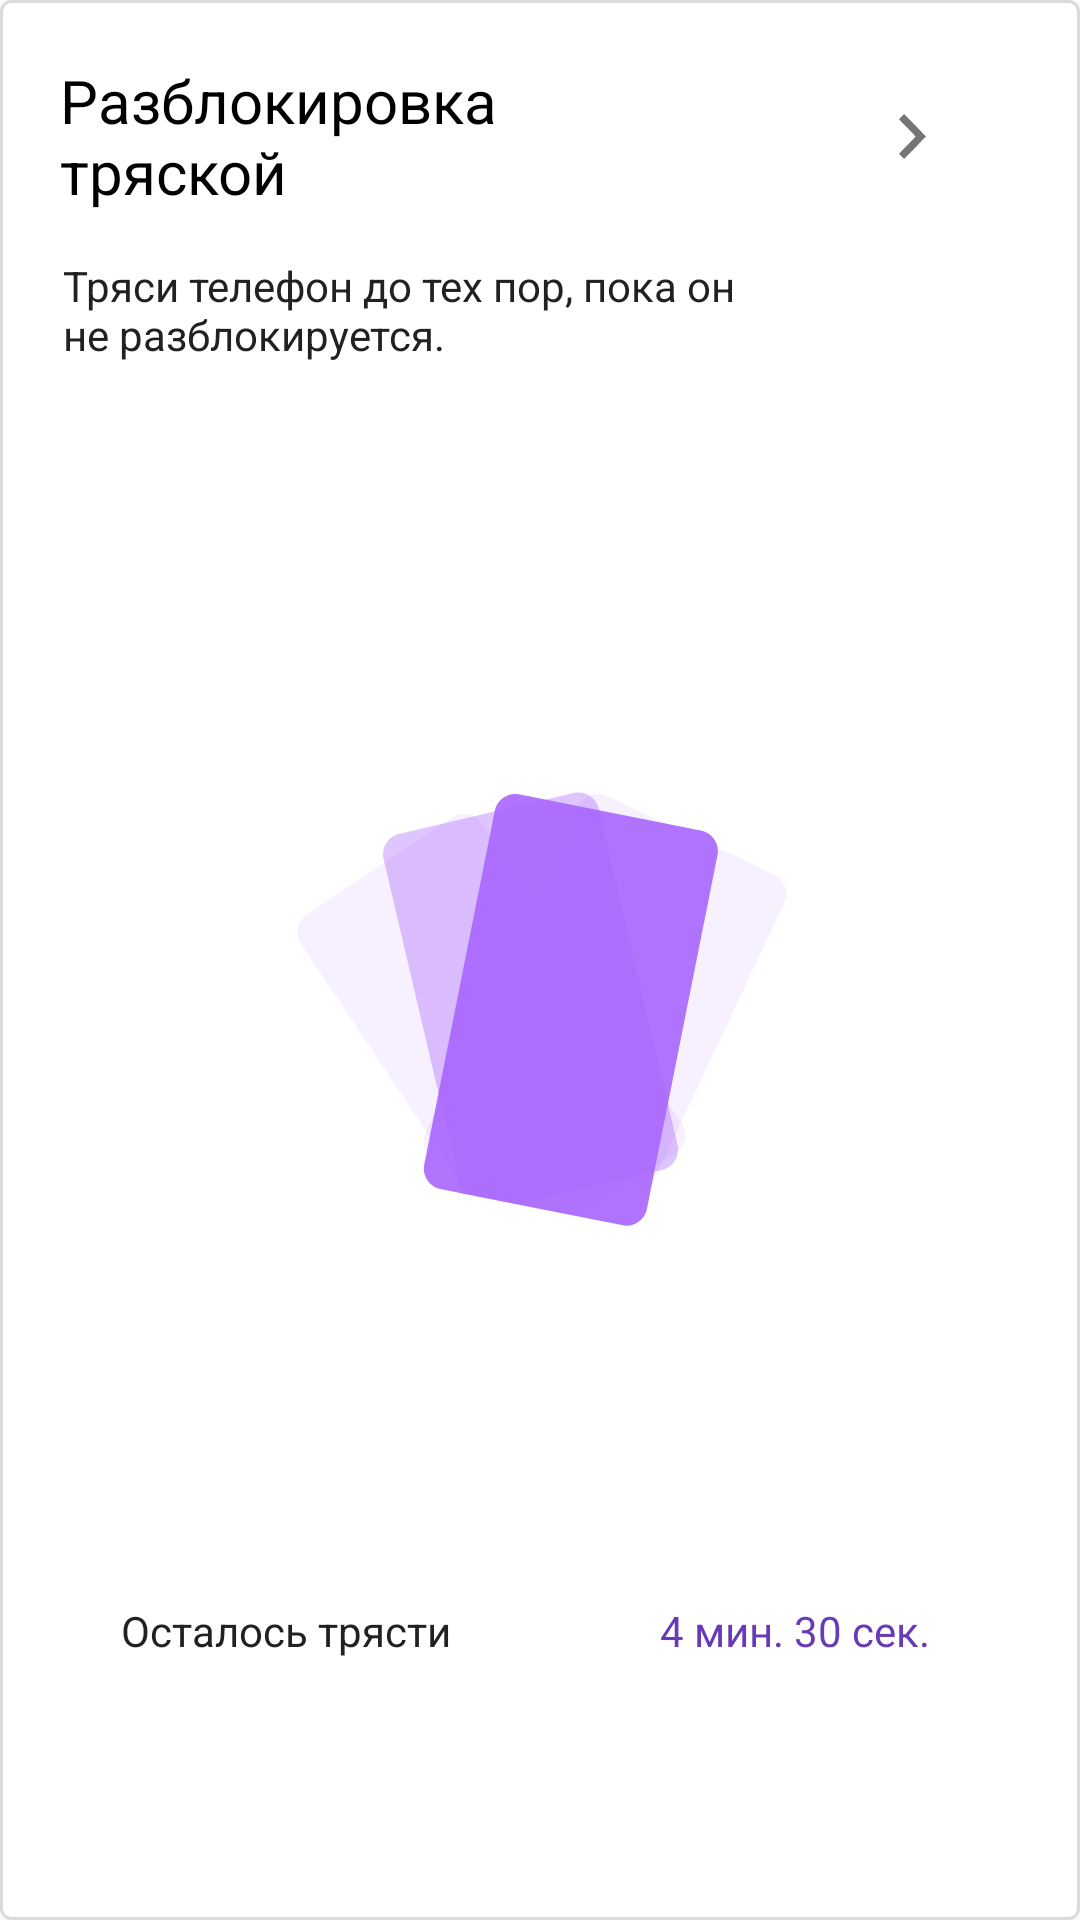

Icons on this 1080×1920 Android screen, each with its box as rect(x1, y1, x2, y2):
arrow: rect(899, 114, 926, 159)
